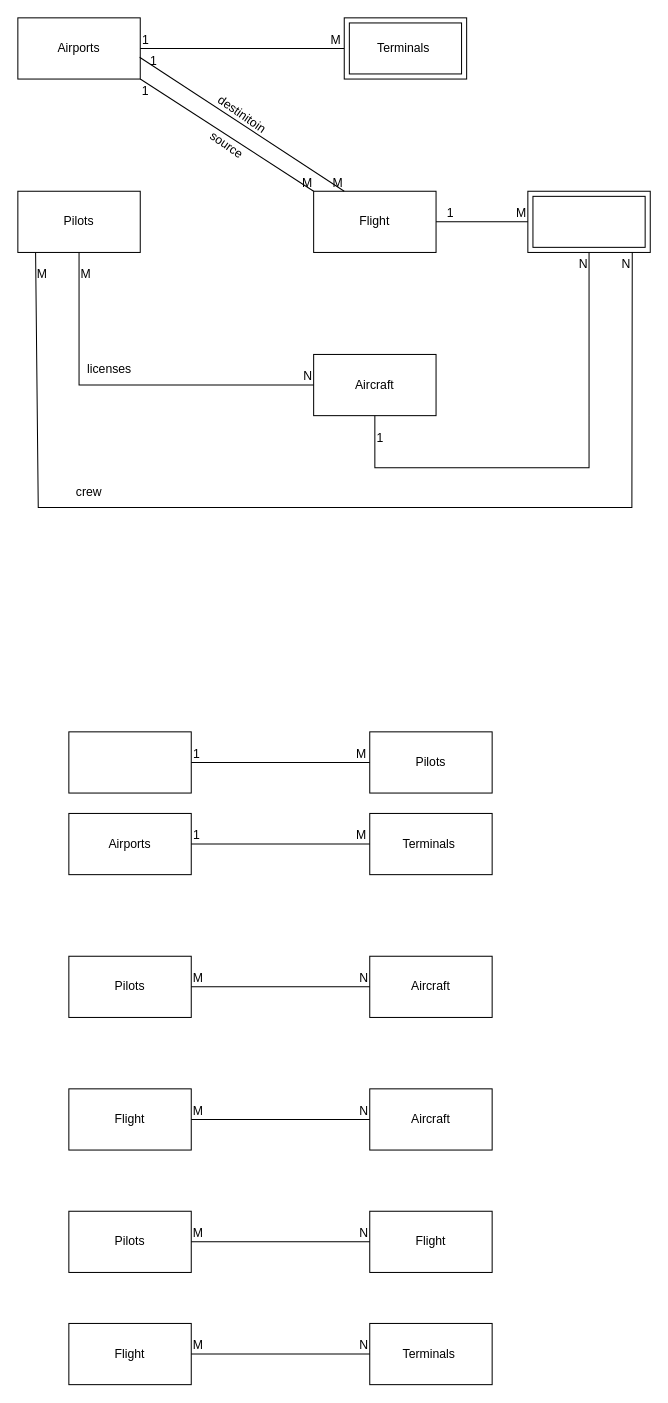
This 668x1403 diagram has some shape labels left out. Here are the shapes that lost their labels. From the top down, the centre of each, then its label:
(x=588, y=221): Actual Flight
(x=129, y=762): fugi airline
